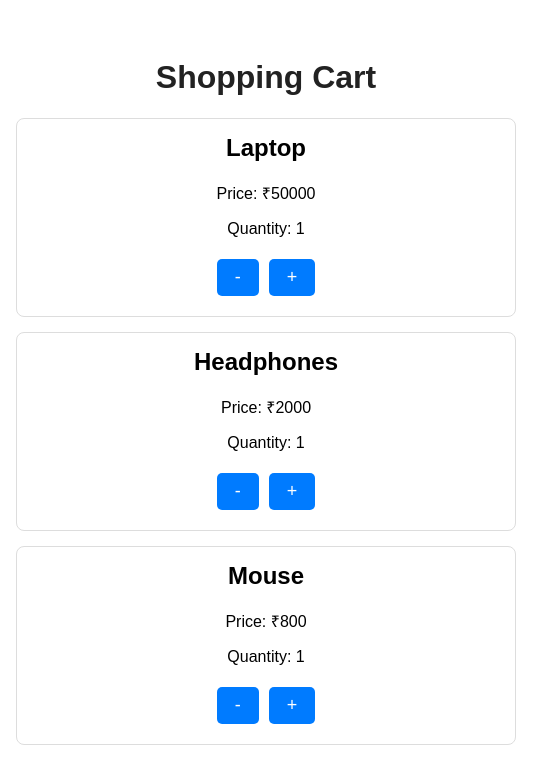
React Shopping Cart › increases laptop quantity and updates the total
The width and height of the screenshot is (533, 774).
Click the button named "increase laptop quantity". click: (292, 277)
box: [269,259,315,296]
(page scrolled)
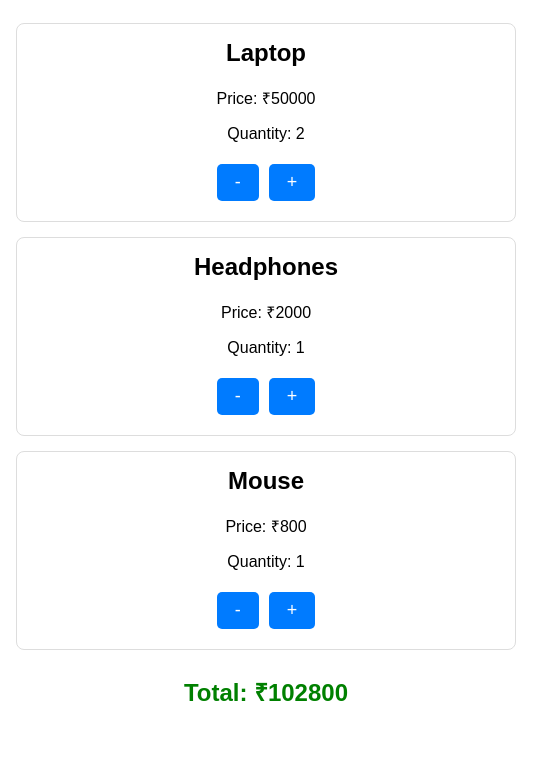
Result: the text "Quantity: 2" is shown at [227,125,305,142]
Result: the heading "Total: ₹102800" is shown at [184,679,348,706]
